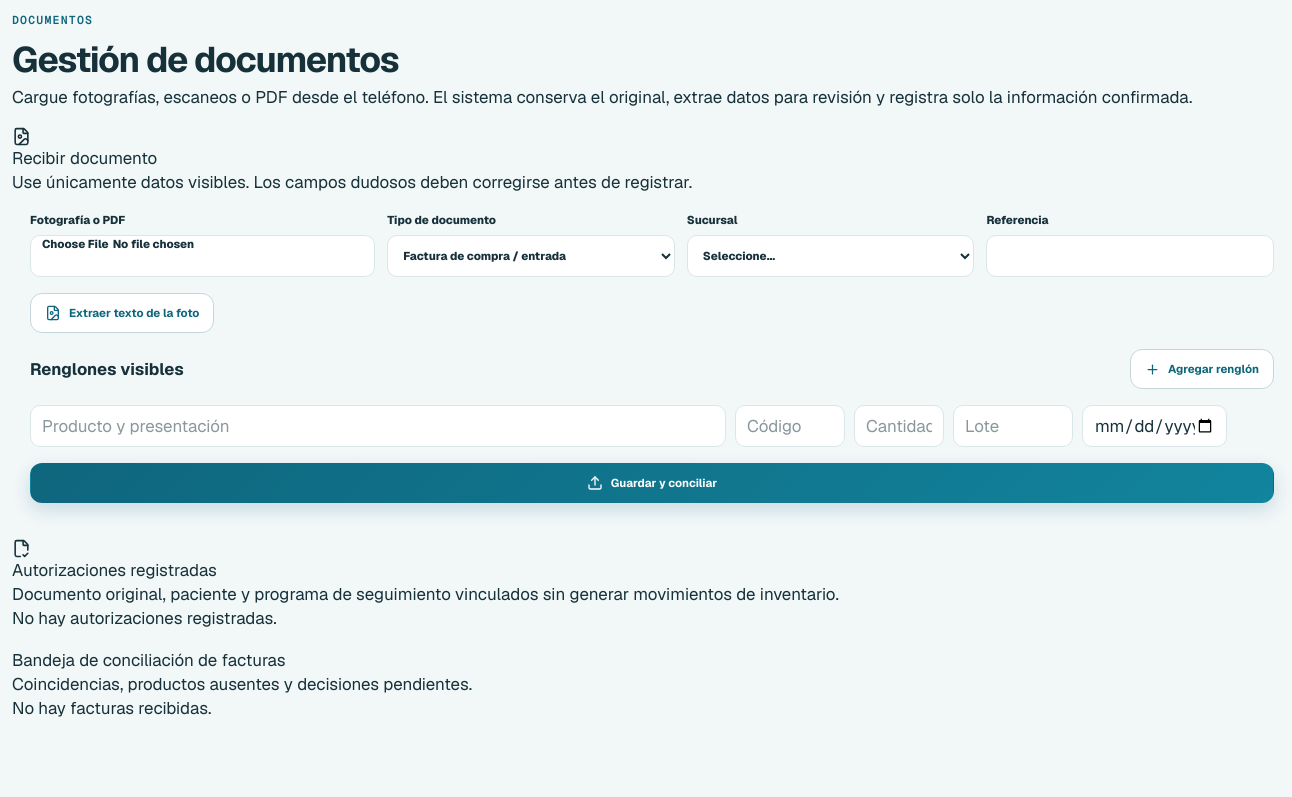
Documents workspace › supports phone camera uploads and a reviewed insurance authorization workflow
Expected: the heading "Gestión de documentos" is shown, [12,36,399,82]
Select "Autorización de seguro" in the dropdown labelled "Tipo de documento" at (531, 256), box [387,235,675,277]
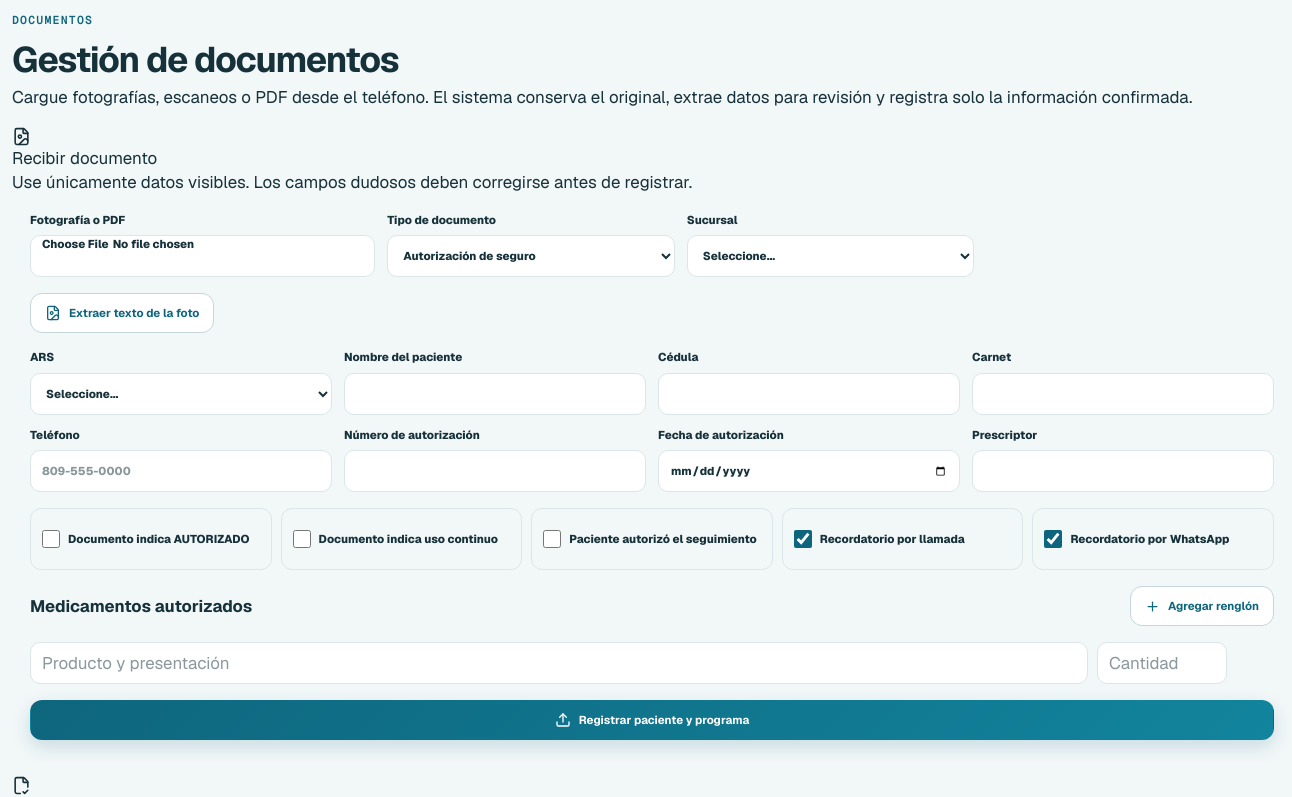
Now the field labelled "Nombre del paciente" is shown, box [344,372,646,414]
Now the field labelled "Cédula" is shown
Now the field labelled "Carnet" is shown, box [972,372,1274,414]
Type "001A1234567-8" into the field labelled "Cédula" at (809, 394), box [658,372,960,414]
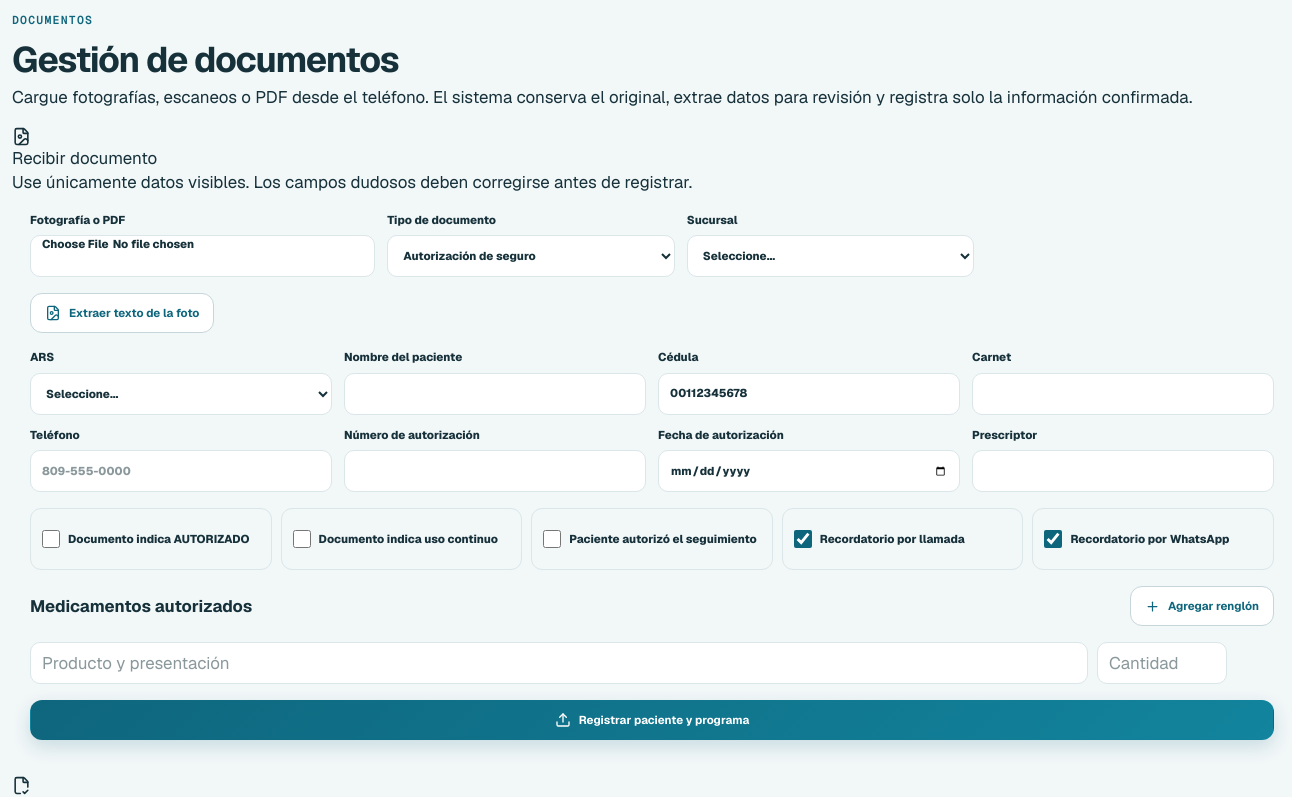
Type "809a5550101" into the field labelled "Teléfono" at (181, 471), box [30,450,332,492]
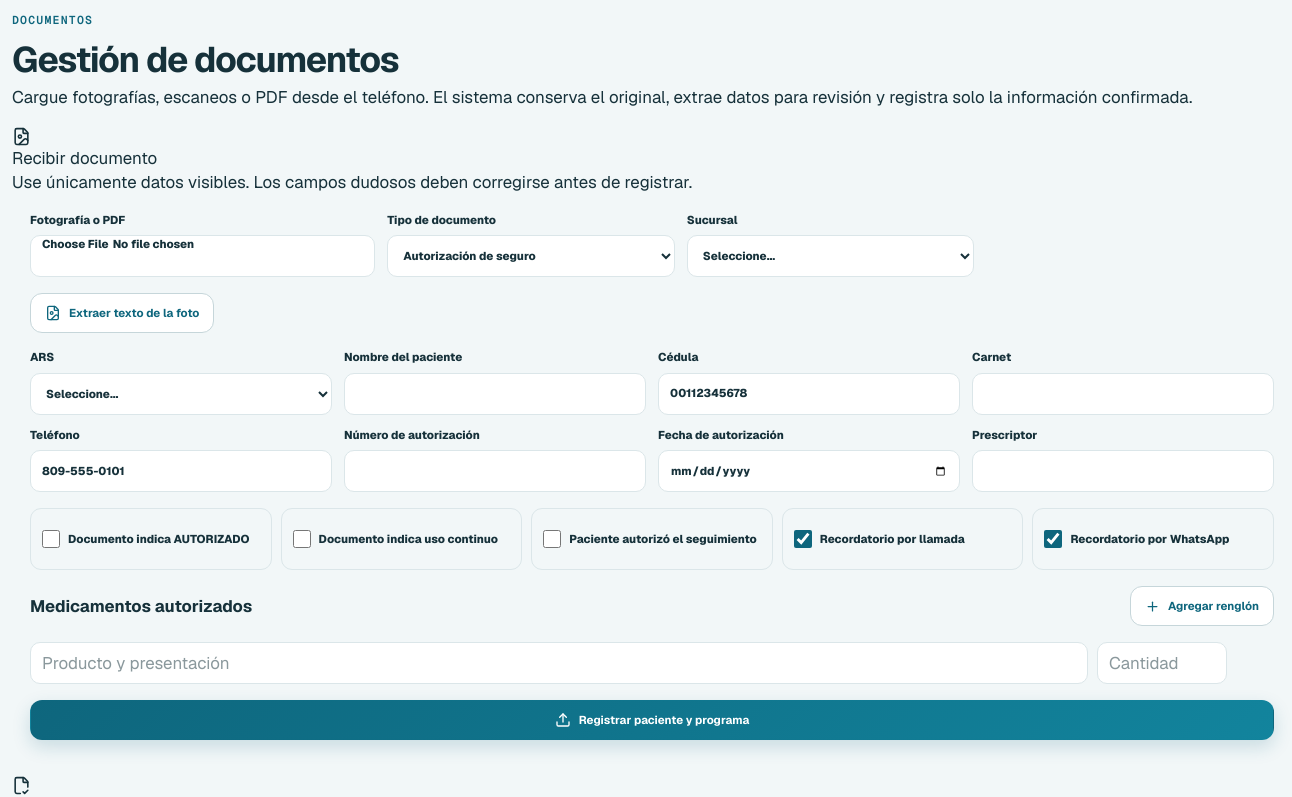
Now the field labelled "Cédula" holds "00112345678", box [658,372,960,414]
Now the checkbox labelled "Documento indica AUTORIZADO" is shown, box [42,518,60,560]
Now the field labelled "Teléfono" holds "809-555-0101", box [30,450,332,492]
